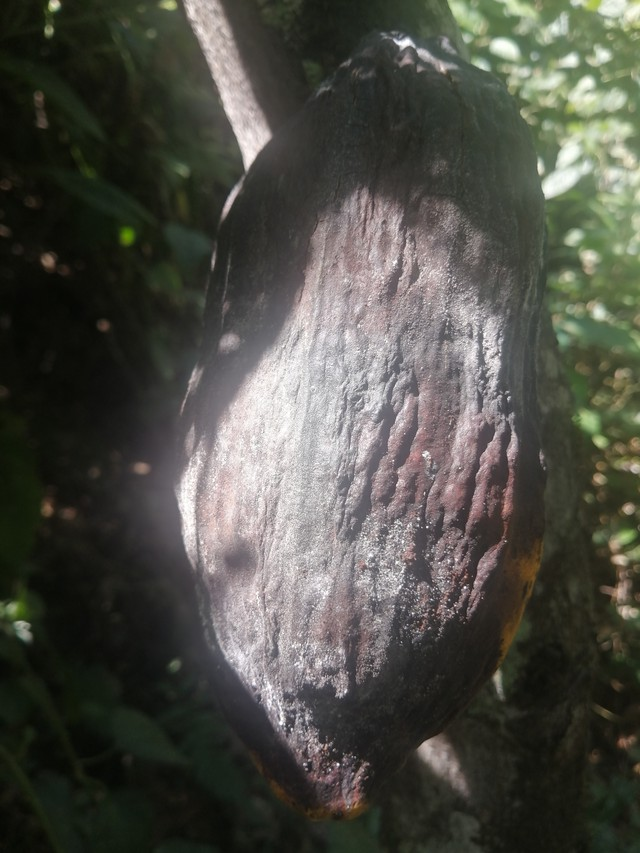moniliophthora roreri: (141, 20, 573, 836)
